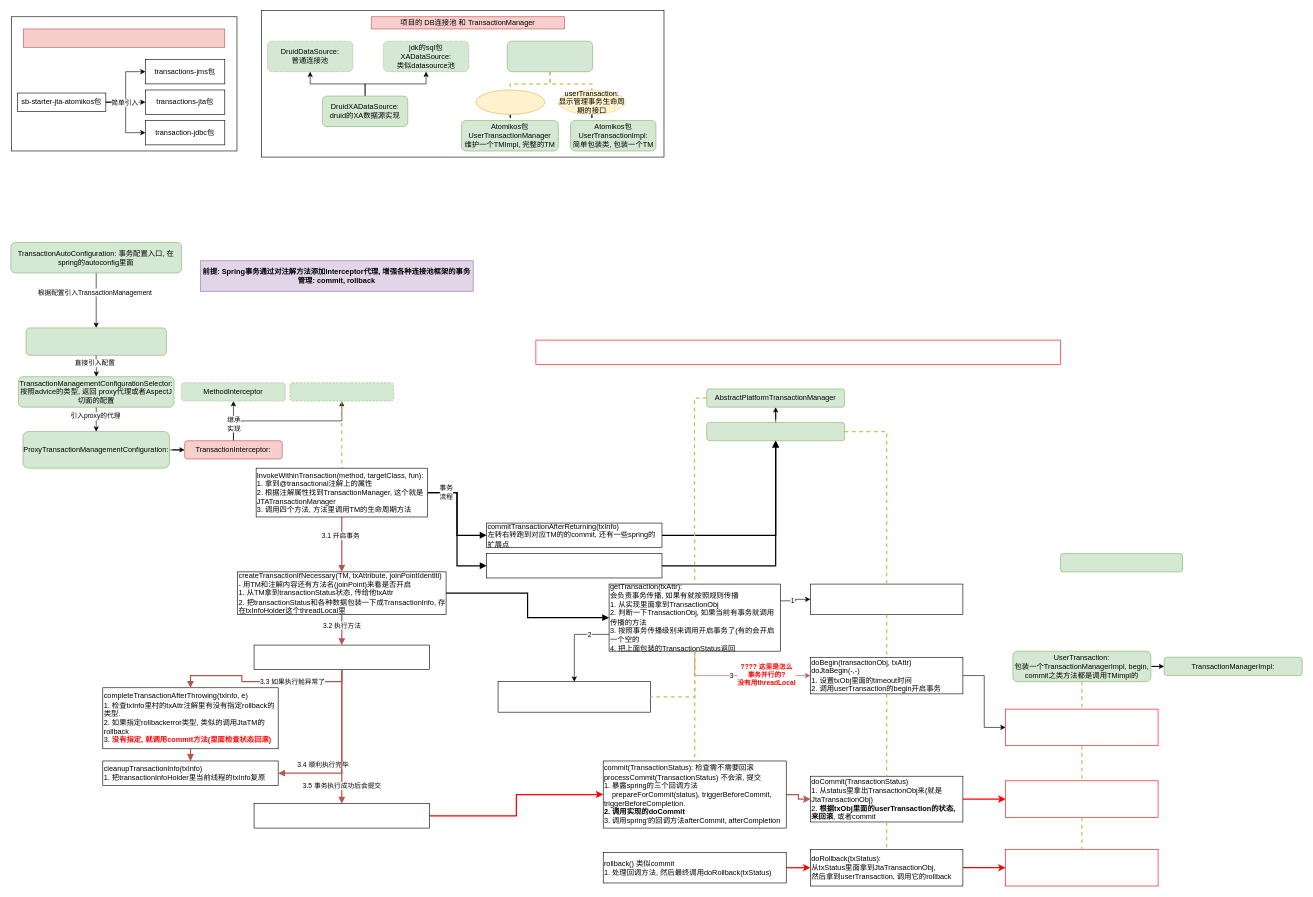
Image size: 1313x897. Some labels were removed from this diagram. The box of each missing label's shape, as (x1, y1, x2, y2) in pixels:
@EnableTransactionManager: (25, 327, 166, 355)
Atomikos依赖结构: (23, 28, 225, 47)
begin(timeout) - JTA真实事务入口: (1005, 709, 1158, 746)
commit(): (1005, 780, 1158, 817)
commitTransactionAfterReturing(txInfo) 1. 从txInfo里拿出TM, 然后调用commit就好了: (253, 803, 429, 828)
completeTransactionAfterThrowing: 处理报错后回滚, 跑搭配对应TM的回滚逻辑, 如果有savepoint就到sp: (486, 553, 662, 578)
DefaultTransactionStatus: (1060, 553, 1182, 572)
doGetTransaction(): 1. 拿到UserTransaction 2. 把ut包装在一个JtaTransactionObj里面返回: (810, 583, 963, 615)
handleExistingTransaction(txAttr, TransactionObj) - 这里负责事务传播: (497, 681, 651, 712)
invocation.processdWithInvocation(): 1. 切面invocation.proceed()匿名方法, 调用target方法: (253, 644, 429, 669)
JtaTransactionManager: 注入了atomikos增强的TM: (706, 422, 845, 441)
rollback(): (1005, 849, 1158, 886)
spring-tx包的 JtaTransactionManager:: (507, 41, 593, 72)
TransactionAspectSupport: 事务切面支持: (289, 382, 394, 401)
transactionManager: (475, 89, 545, 114)
通过实现TransactionManager, 把所事务的各种操作转到UserTransaction里面: (535, 339, 1060, 364)
